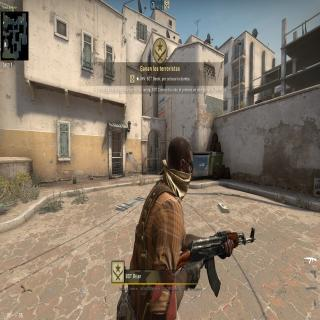T-Head: (166, 132, 195, 194)
